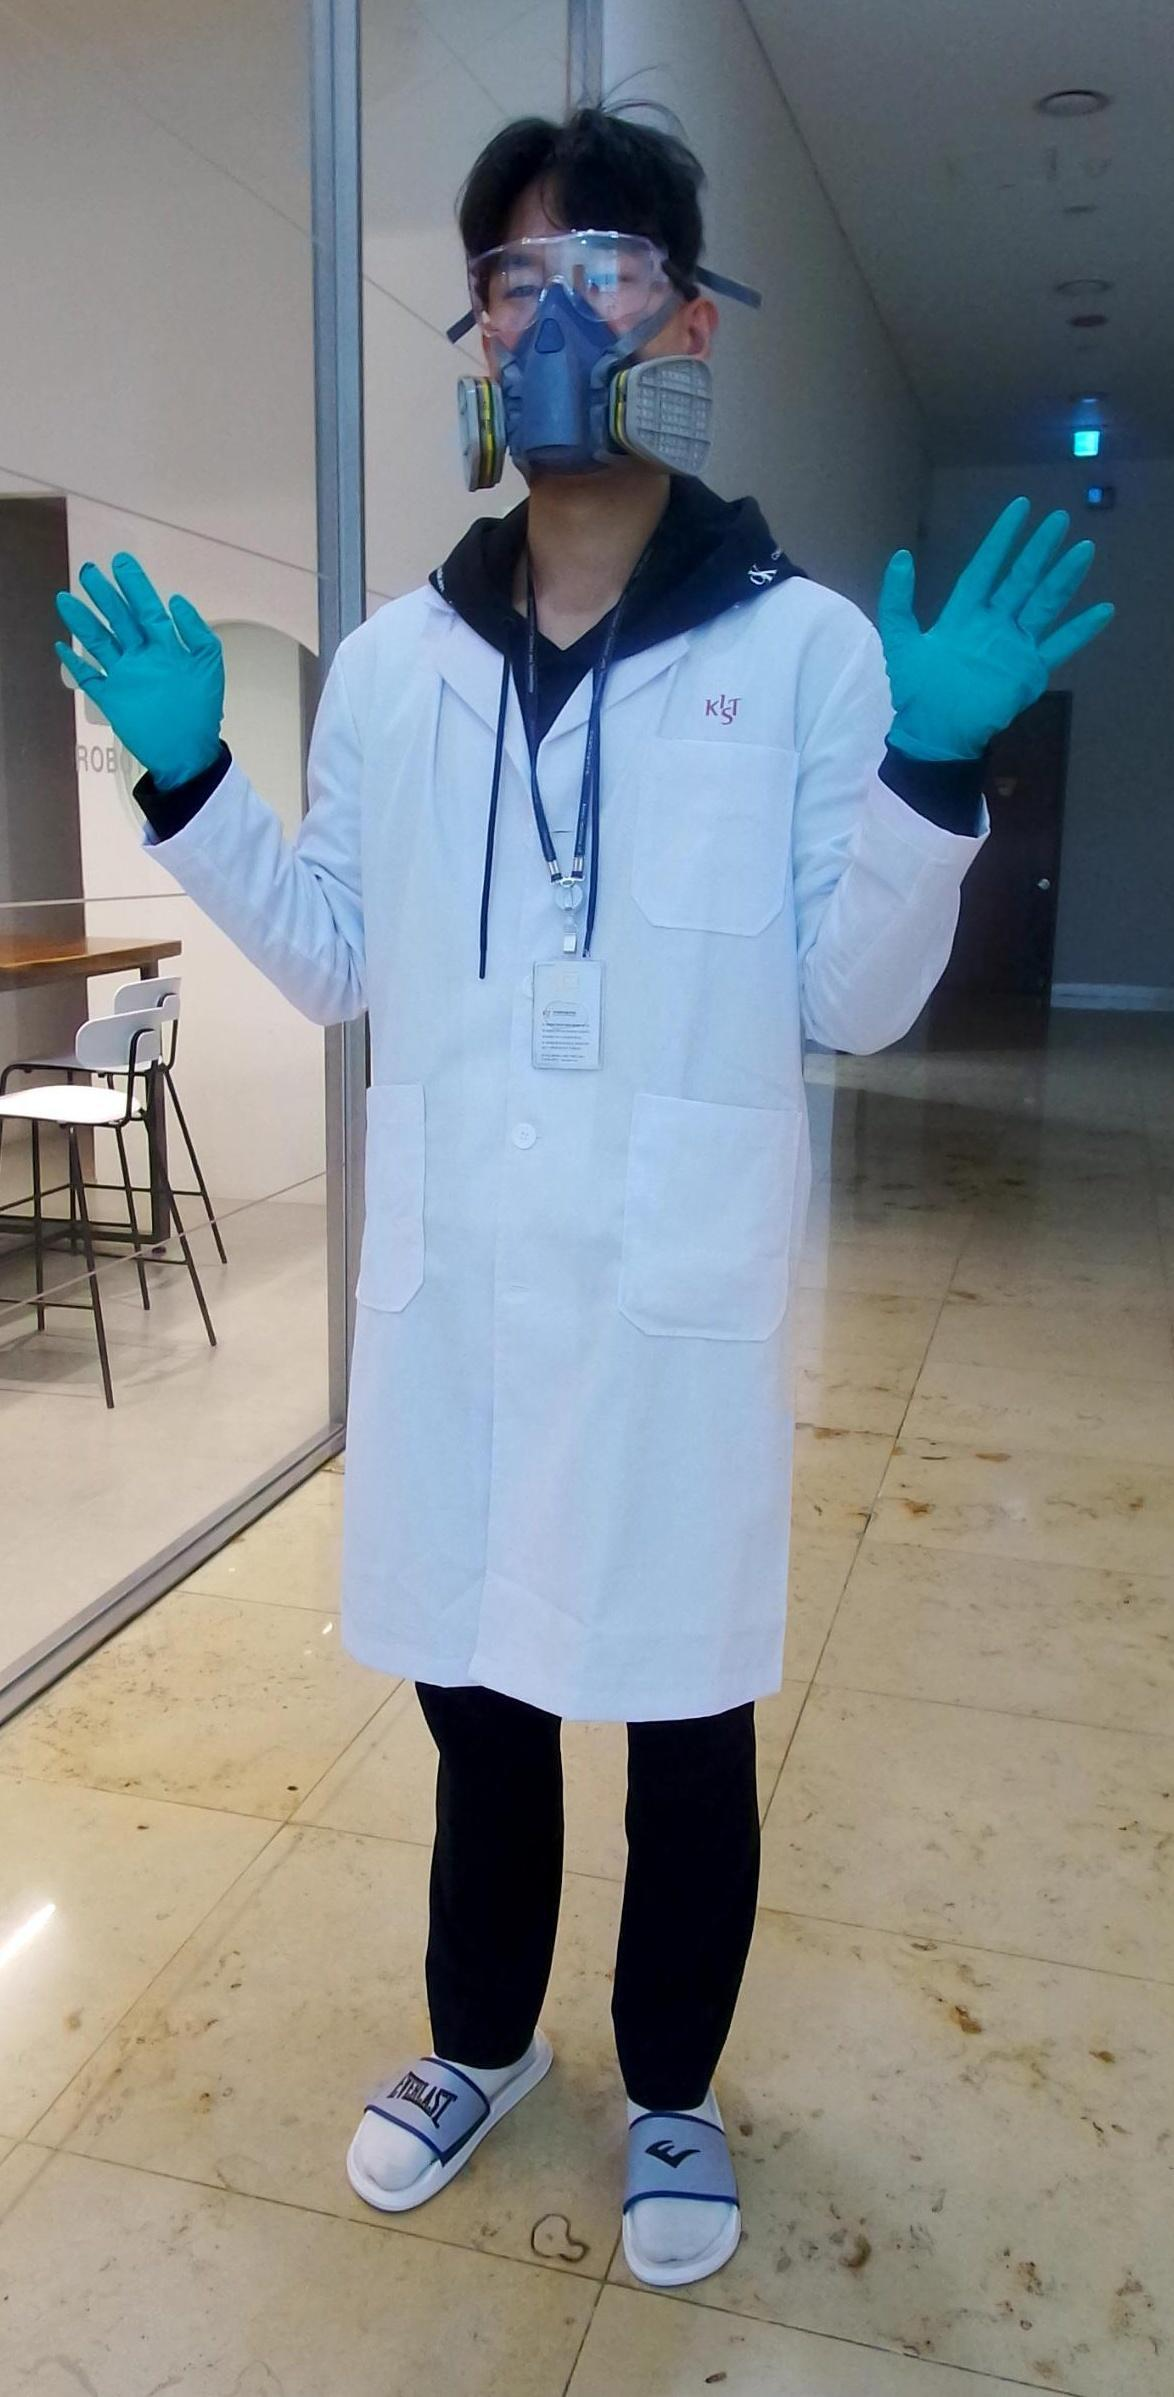lab_coat: (292, 596, 871, 1692)
